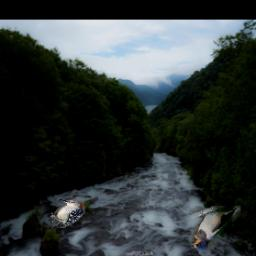Swallow: (190, 206, 240, 250)
Woodpecker: (49, 198, 84, 228)
